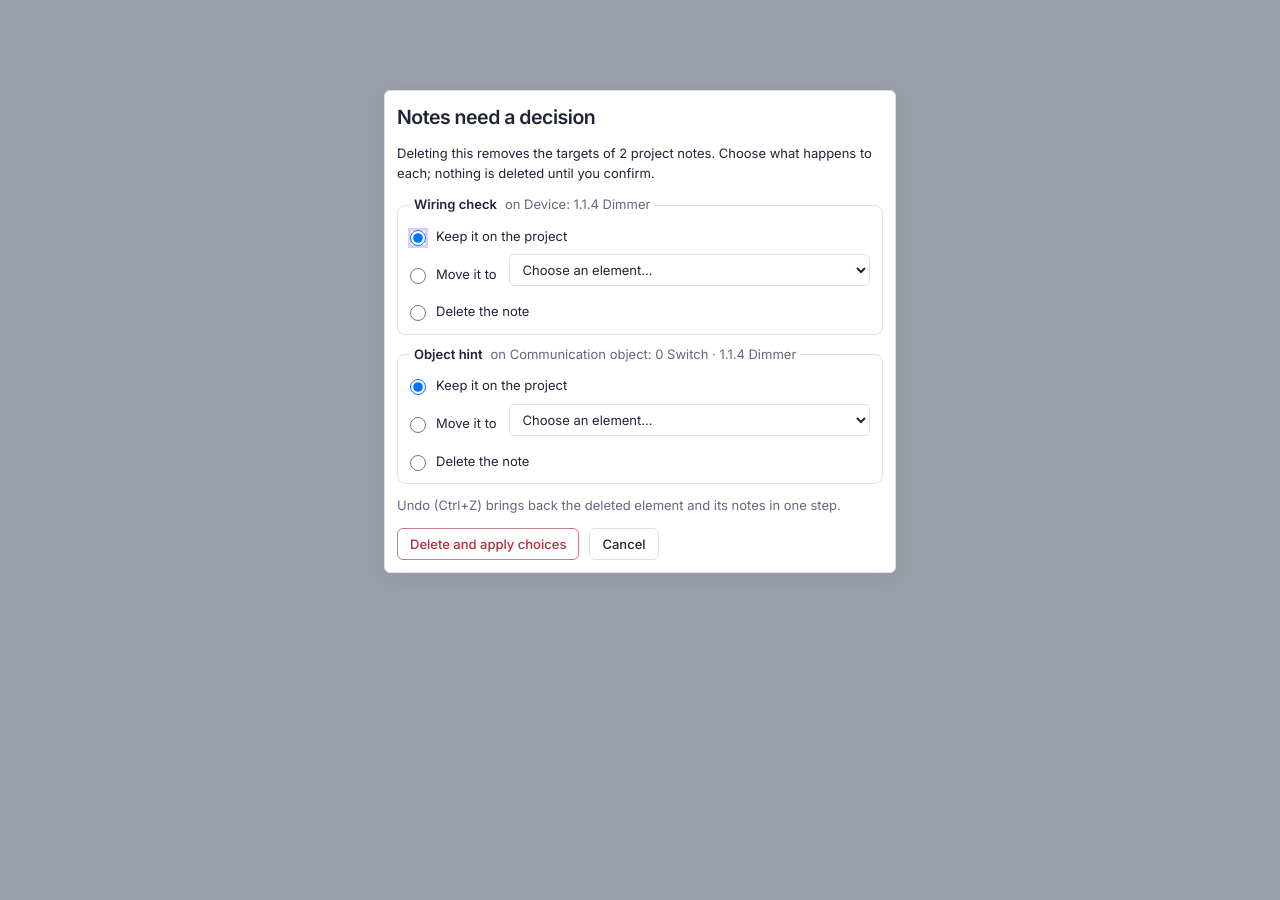
Test case: a stale project blocks a retry and says nothing was deleted
What coordinates should you click on to do the following:
click the button "Delete and apply choices"
I would click on:
 (488, 544)
Its box is [397,528,579,560].
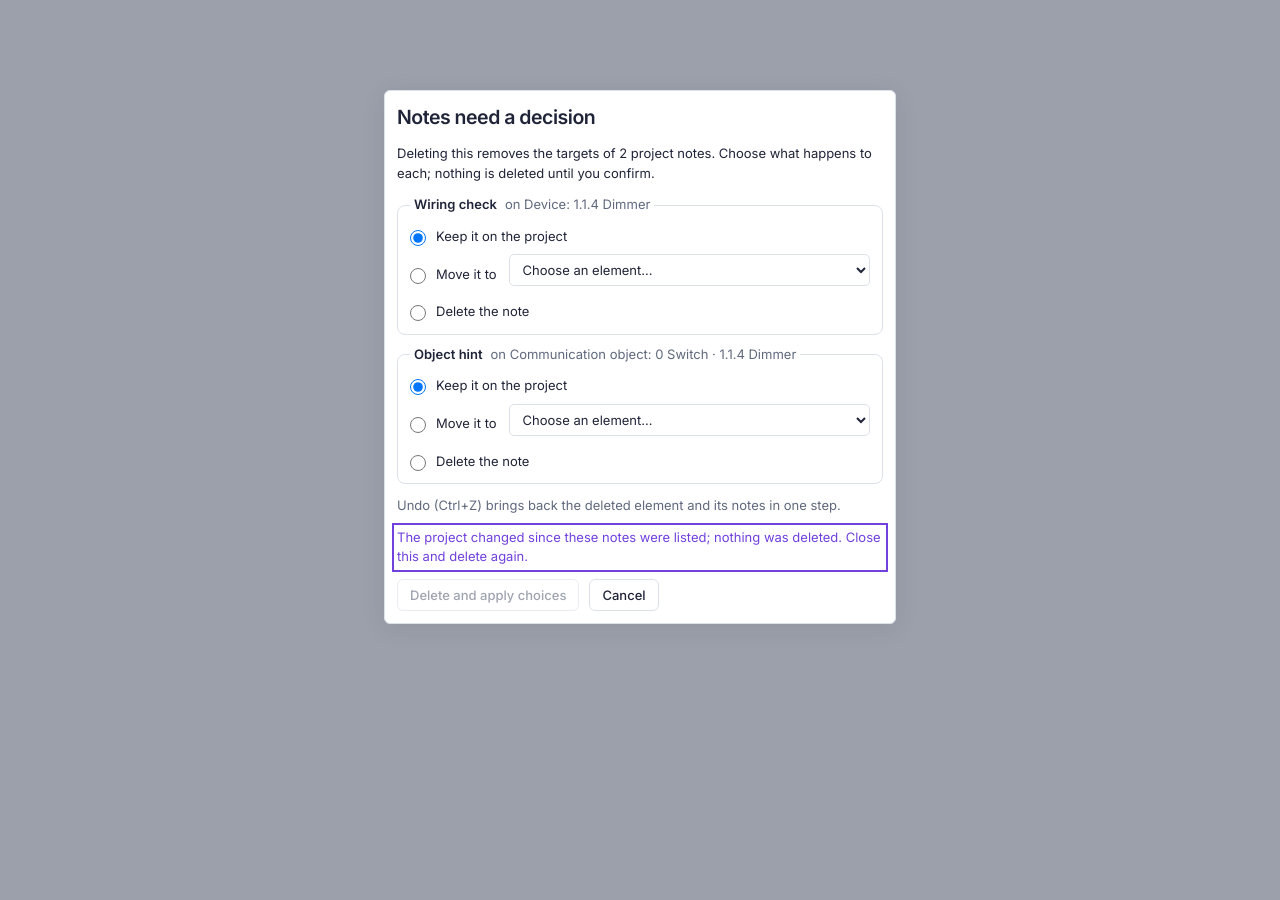
Now the message shows "nothing was deleted", box [397,529,881,564]
Now the button "Delete and apply choices" is disabled, box [397,579,579,611]
